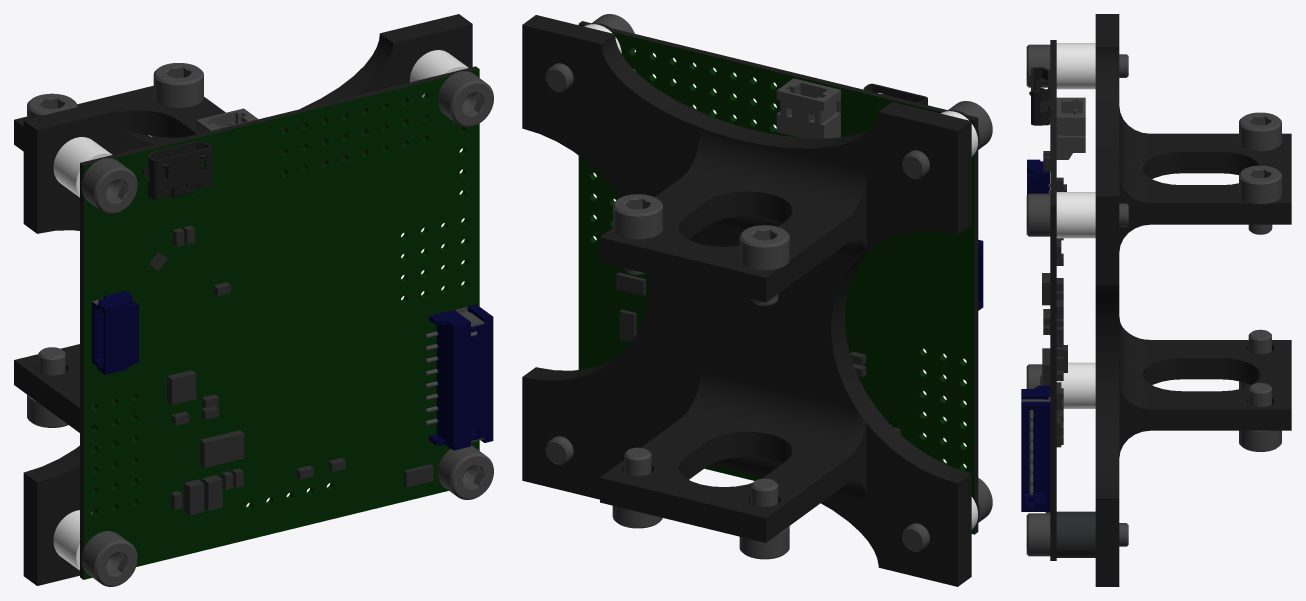
Rendered from fc_euclid201806.dae.
The picture shows the model from 3 angles, left to right: view 1: azimuth 30°, elevation 25°; view 2: azimuth 150°, elevation 25°; view 3: azimuth 270°, elevation 25°; orthographic projection. The views are drawn at different scales.
Visible parts, largest first — view 1: _3DGeom_597, Body_1 (×11), _3DGeom_1077, _3DGeom_596, _3DGeom_595, _3DGeom_814, Body_3, Body_45; view 2: Body_1 (×9), _3DGeom_597, _3DGeom_596, Body_45; view 3: Body_1 (×13), _3DGeom_596, _3DGeom_1077, Body_45, _3DGeom_595, _3DGeom_814, _3DGeom_1078.
Boxes of the visible parts, <box> form: _3DGeom_597: <box>83,69,479,579</box>; Body_1 (×11): <box>14,14,493,586</box>; _3DGeom_1077: <box>429,304,493,450</box>; _3DGeom_596: <box>80,66,478,579</box>; _3DGeom_595: <box>149,225,433,515</box>; _3DGeom_814: <box>92,291,138,374</box>; Body_3: <box>167,370,196,404</box>; Body_45: <box>196,108,258,133</box>; Body_1 (×9): <box>522,14,992,586</box>; _3DGeom_597: <box>578,24,974,534</box>; _3DGeom_596: <box>579,21,978,534</box>; Body_45: <box>776,78,840,138</box>; Body_1 (×13): <box>1026,14,1291,586</box>; _3DGeom_596: <box>1029,40,1056,560</box>; _3DGeom_1077: <box>1021,385,1050,511</box>; Body_45: <box>1056,97,1085,159</box>; _3DGeom_595: <box>1040,151,1050,513</box>; _3DGeom_814: <box>1027,159,1049,194</box>; _3DGeom_1078: <box>1021,397,1050,495</box>.
Size of the model in its own units: 0.055 by 0.0345 by 0.055.
